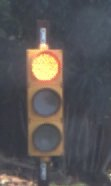Red: (19, 39, 79, 176)
